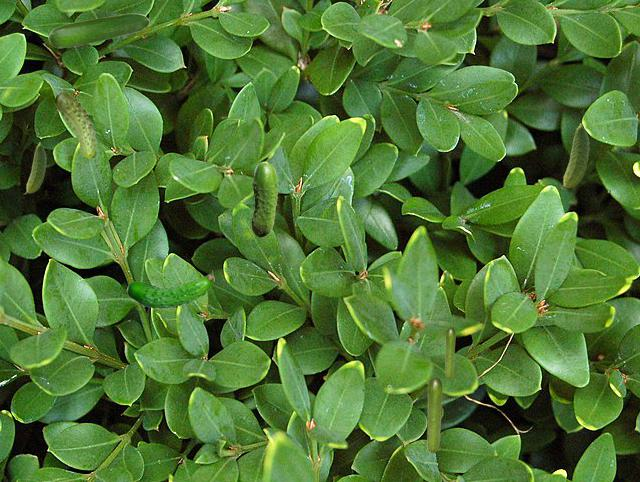cucumber: (48, 13, 148, 47), (126, 270, 213, 308), (54, 91, 96, 156), (251, 161, 277, 236), (559, 123, 588, 188), (23, 142, 45, 193), (427, 377, 441, 452), (445, 327, 454, 378)
